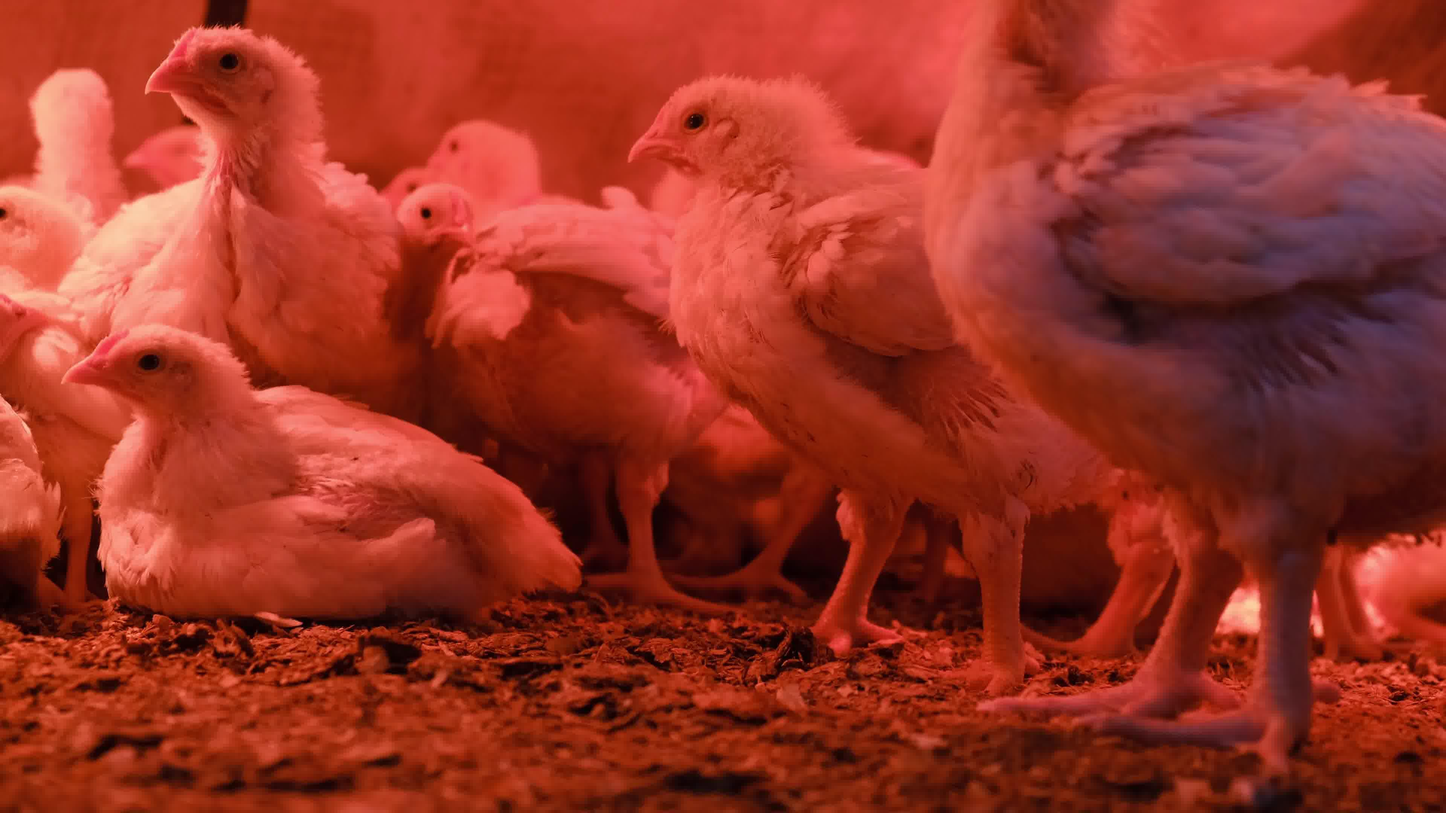AbNormal: (64, 320, 584, 676), (0, 252, 109, 640)
Normal: (938, 0, 1438, 777), (602, 66, 1064, 670), (88, 19, 395, 346), (380, 160, 516, 352), (407, 104, 563, 265), (2, 49, 130, 207), (0, 126, 104, 299), (115, 87, 226, 233)
